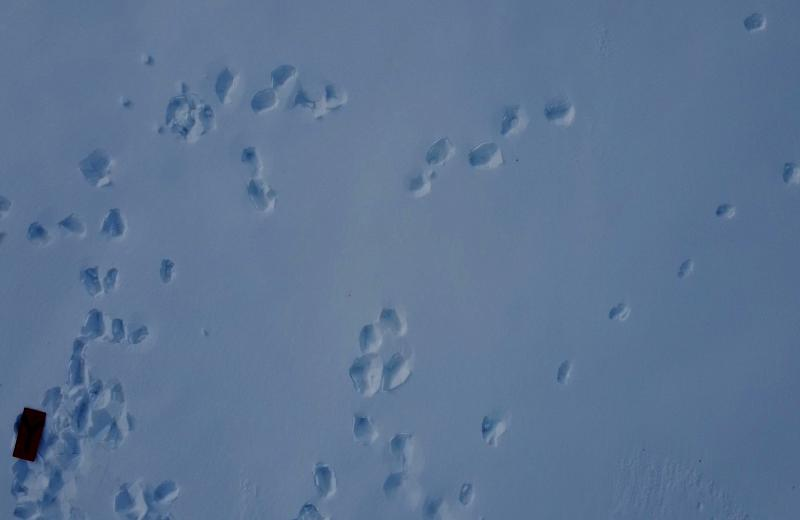Rectangle: (12, 404, 48, 464)
